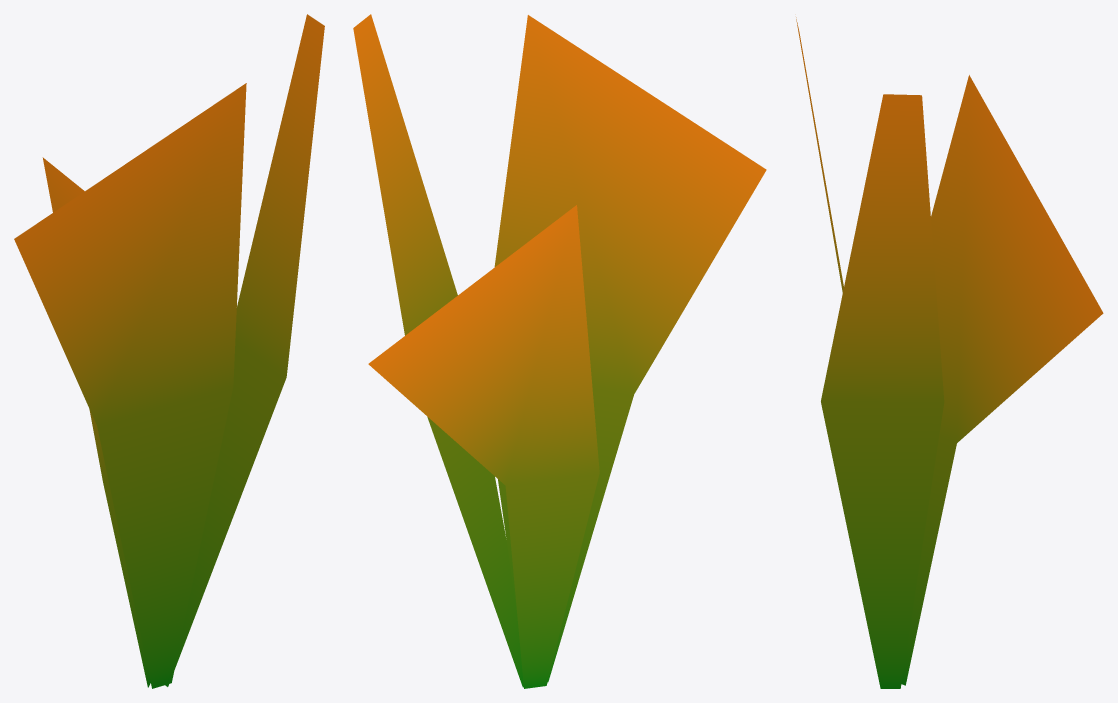
File: Common Eelgrass_LOD3_Var8_sjglk.fbx
3 renders of one model, left to right at view 1: azimuth 30°, elevation 25°; view 2: azimuth 150°, elevation 25°; view 3: azimuth 270°, elevation 25°, orthographic. The views are drawn at different scales.
Parts seen in each view (by area): view 1: _7550_Var8_LOD3; view 2: _7550_Var8_LOD3; view 3: _7550_Var8_LOD3.
Boxes of the visible parts, x1,y1,x2,y2 form: _7550_Var8_LOD3: (14,14,324,688); _7550_Var8_LOD3: (353,14,766,688); _7550_Var8_LOD3: (796,17,1103,688).
Size of the model in its own units: 40.95 by 69.3 by 28.51.
